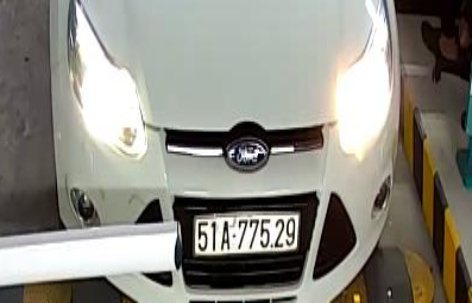plate: (194, 213, 296, 257)
